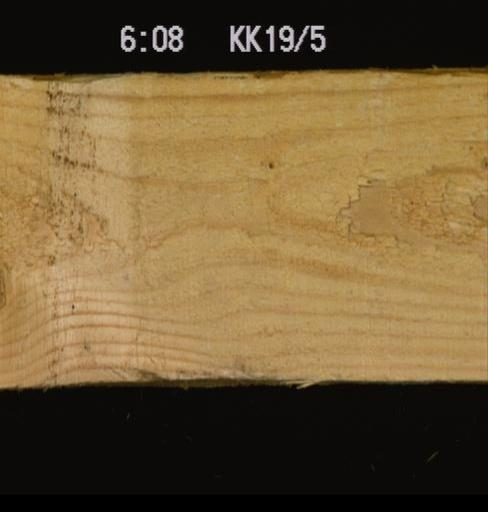small_knot: (475, 146, 486, 174), (264, 156, 277, 171)
wave: (121, 359, 315, 382), (0, 71, 133, 90), (244, 70, 292, 84)
